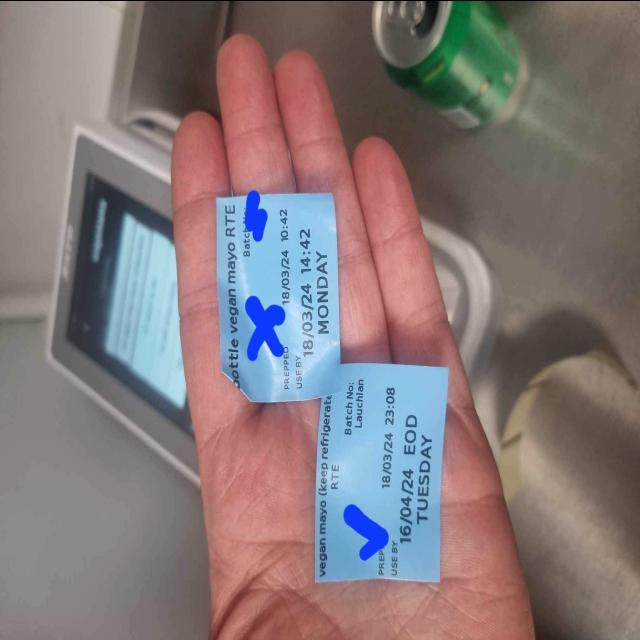product-labels: (317, 365, 447, 580), (217, 190, 337, 396)
